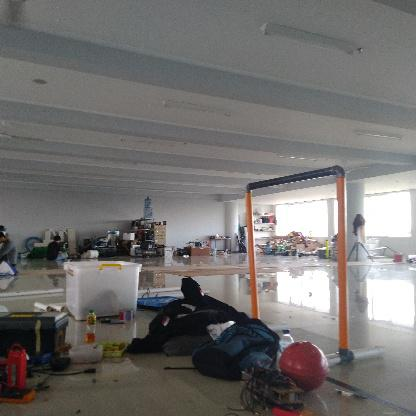red_buoy: (278, 339, 332, 396)
